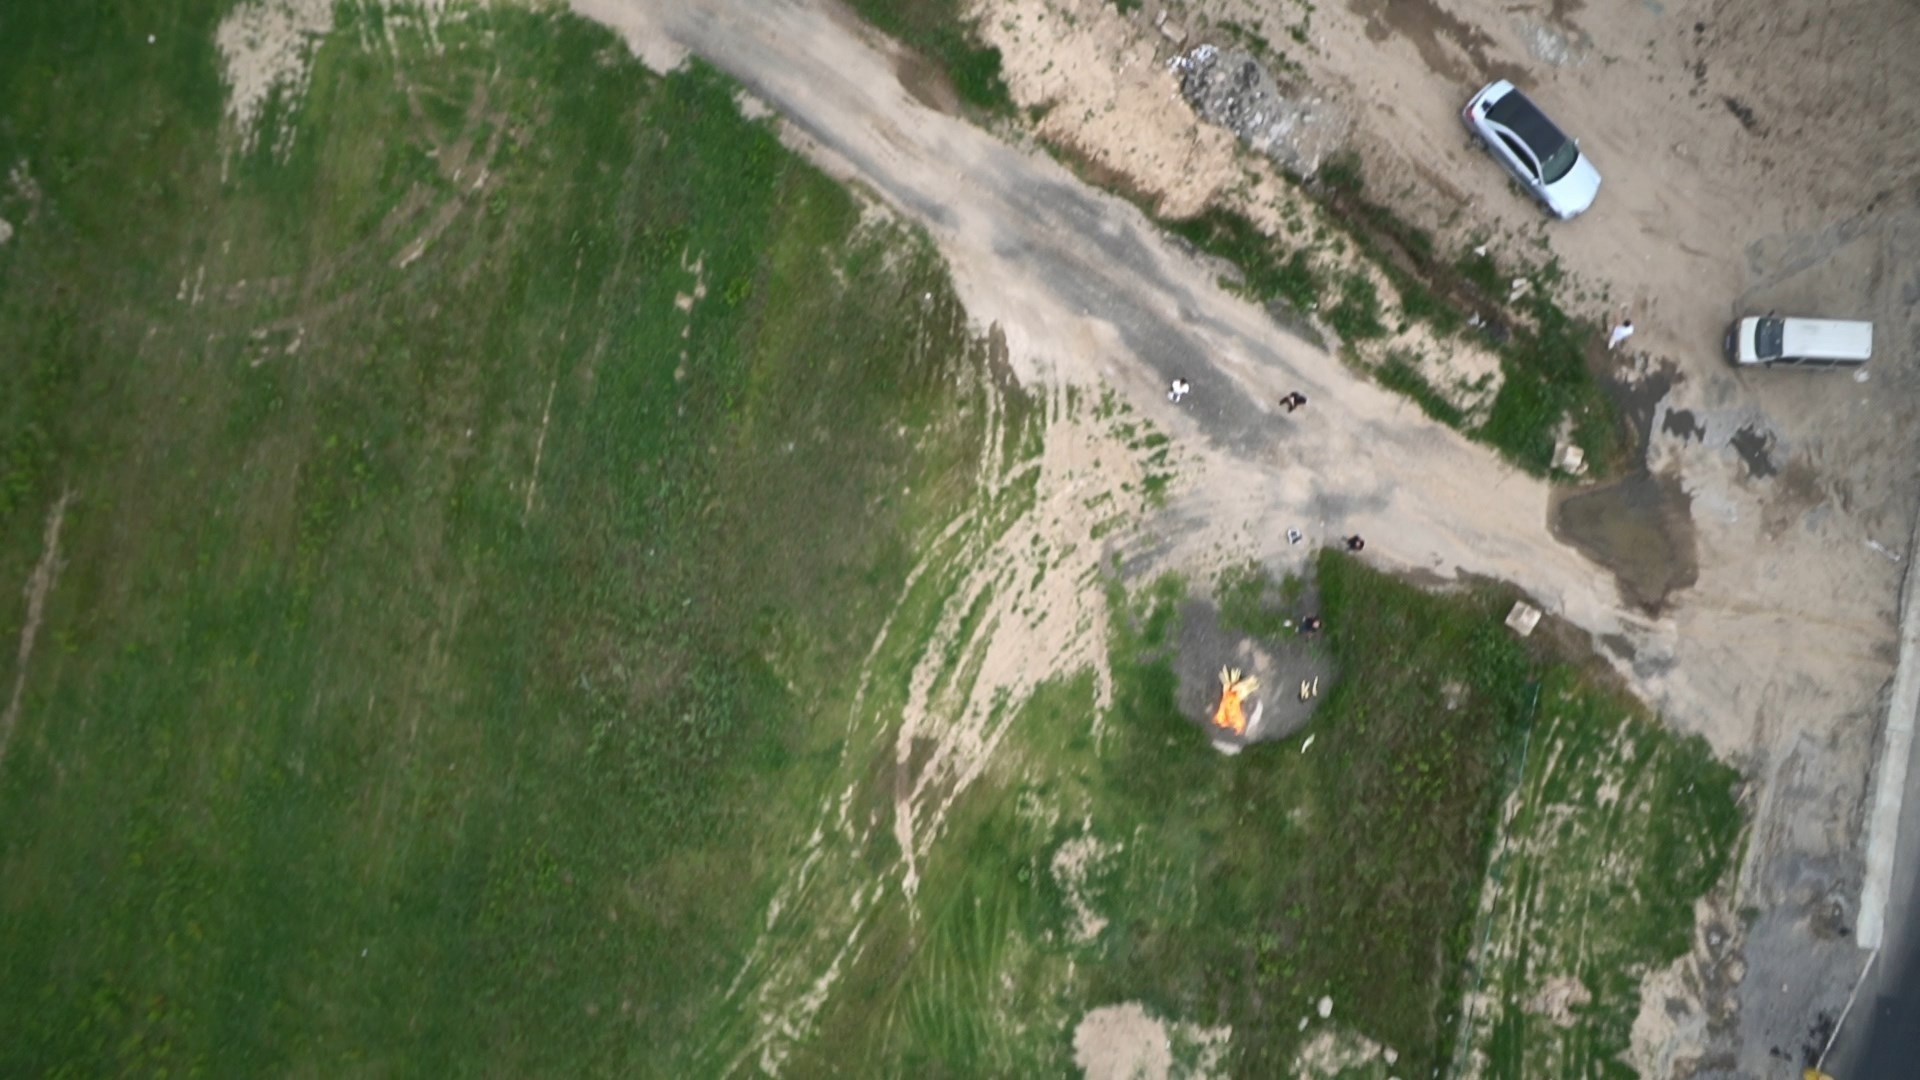fire: (1203, 653, 1263, 736)
